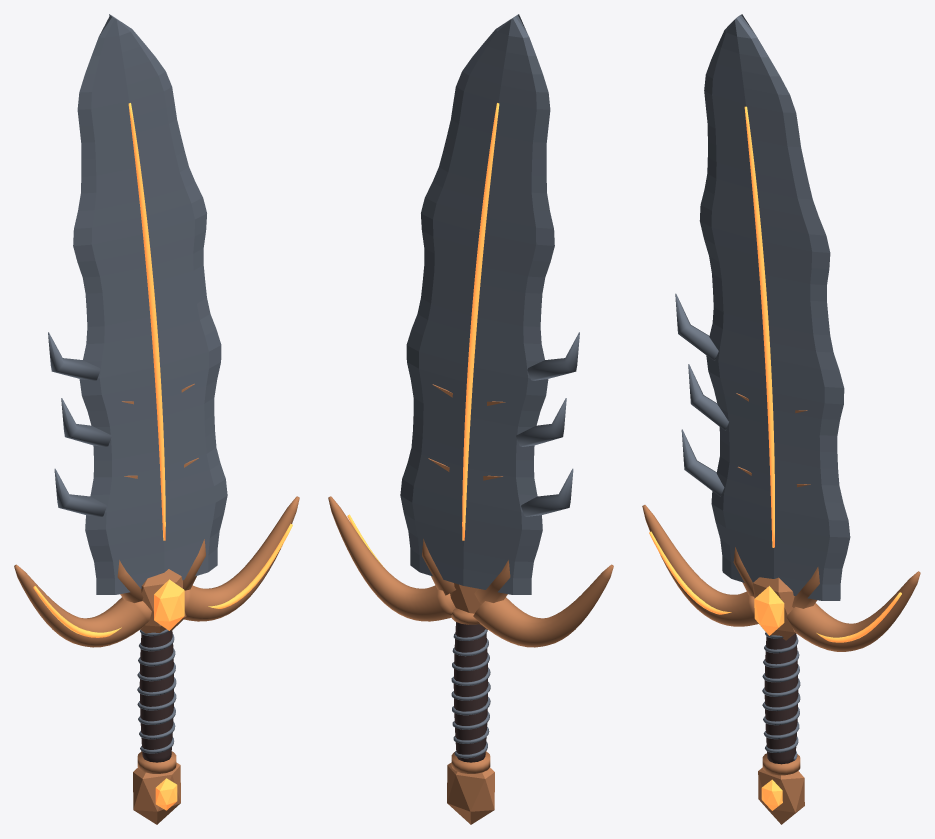
File: ember_infernal.glb
The picture shows the model from 3 angles, left to right: view 1: azimuth 30°, elevation 25°; view 2: azimuth 150°, elevation 25°; view 3: azimuth 330°, elevation 25°; orthographic projection. The views are drawn at different scales.
Parts seen in each view (by area): view 1: Infernal Greatsword blade, Swept guard wing.016, Swept guard wing.017, Tapered leather grip.008, Curved fuller inlay.016, Faceted pommel.008, Helical grip binding.008, Guard gemstone.008, Hooked edge spur.009, Guard socket.008, Hooked edge spur.007, Hooked edge spur.008 (+5 smaller); view 2: Infernal Greatsword blade, Swept guard wing.016, Swept guard wing.017, Tapered leather grip.008, Curved fuller inlay.017, Faceted pommel.008, Helical grip binding.008, Hooked edge spur.009, Hooked edge spur.007, Hooked edge spur.008, Crown blade prong.010, Guard socket.008 (+2 smaller); view 3: Infernal Greatsword blade, Swept guard wing.017, Swept guard wing.016, Tapered leather grip.008, Curved fuller inlay.016, Helical grip binding.008, Faceted pommel.008, Guard gemstone.008, Guard socket.008, Hooked edge spur.009, Hooked edge spur.007, Hooked edge spur.008 (+4 smaller).
Part boxes in pixels (x1,y1,x2,y2): Infernal Greatsword blade: (73, 14, 227, 594); Swept guard wing.016: (14, 564, 151, 647); Swept guard wing.017: (184, 496, 299, 621); Tapered leather grip.008: (139, 630, 173, 762); Curved fuller inlay.016: (128, 103, 165, 540); Faceted pommel.008: (133, 762, 180, 824); Helical grip binding.008: (137, 629, 176, 753); Guard gemstone.008: (154, 579, 184, 630); Hooked edge spur.009: (48, 332, 100, 380); Guard socket.008: (140, 569, 186, 633); Hooked edge spur.007: (54, 468, 106, 516); Hooked edge spur.008: (61, 398, 111, 446); Infernal Greatsword blade: (400, 14, 554, 594); Swept guard wing.016: (473, 564, 613, 647); Swept guard wing.017: (328, 496, 455, 621); Tapered leather grip.008: (453, 622, 488, 762); Curved fuller inlay.017: (462, 103, 499, 540); Faceted pommel.008: (447, 762, 494, 824); Helical grip binding.008: (451, 629, 490, 758); Hooked edge spur.009: (527, 332, 579, 380); Hooked edge spur.007: (521, 468, 573, 516); Hooked edge spur.008: (516, 398, 566, 446); Crown blade prong.010: (474, 560, 510, 603); Guard socket.008: (450, 583, 487, 629); Infernal Greatsword blade: (699, 14, 850, 600); Swept guard wing.017: (786, 571, 920, 651); Swept guard wing.016: (642, 505, 758, 626); Tapered leather grip.008: (764, 633, 798, 764); Curved fuller inlay.016: (744, 106, 774, 547); Helical grip binding.008: (762, 632, 800, 760); Faceted pommel.008: (758, 767, 804, 824); Guard gemstone.008: (754, 586, 784, 635); Guard socket.008: (753, 577, 795, 640); Hooked edge spur.009: (675, 293, 718, 360); Hooked edge spur.007: (681, 429, 724, 496); Hooked edge spur.008: (688, 364, 728, 430).
Size of the model in its own units: 2.26 by 6.2 by 0.3739.
